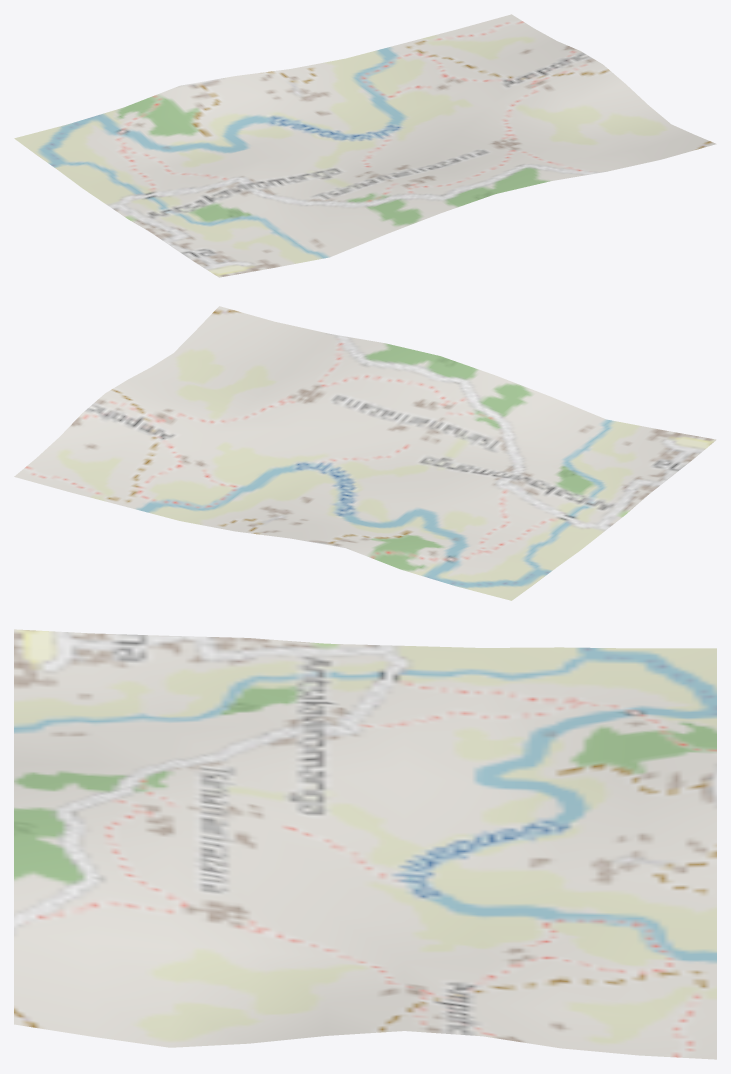
The model's file is ground_5_2.glb.
The picture shows the model from 3 angles, top to bottom: view 1: azimuth 30°, elevation 25°; view 2: azimuth 150°, elevation 25°; view 3: azimuth 270°, elevation 25°; orthographic projection. The views are drawn at different scales.
Parts seen in each view (by area): view 1: ground_5_2; view 2: ground_5_2; view 3: ground_5_2.
Boxes of the visible parts, x1,y1,x2,y2 form: ground_5_2: (14, 14, 716, 277); ground_5_2: (14, 306, 716, 600); ground_5_2: (14, 629, 716, 1059).
Size of the model in its own units: 1204 by 68.64 by 860.
1 material, 1 textured.
